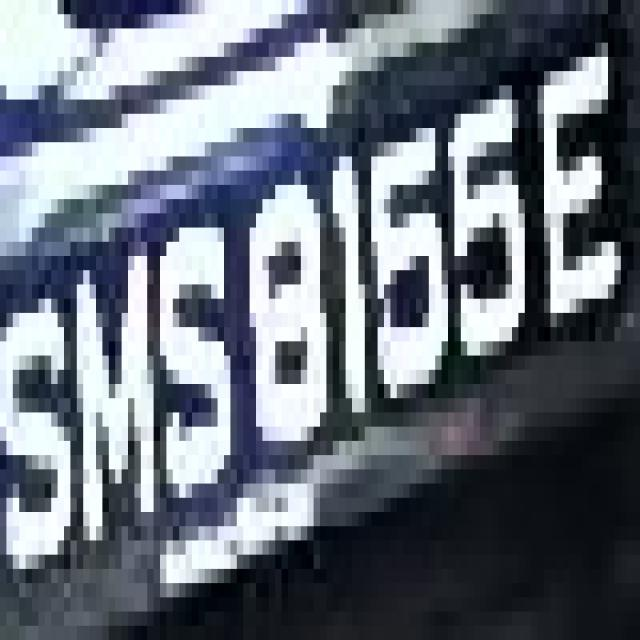1: (326, 100, 404, 483)
5: (448, 71, 538, 427), (358, 57, 436, 441)
8: (237, 185, 339, 427)
E: (518, 28, 628, 370)
M: (57, 214, 166, 526)
S: (154, 156, 224, 554), (13, 242, 77, 554)
